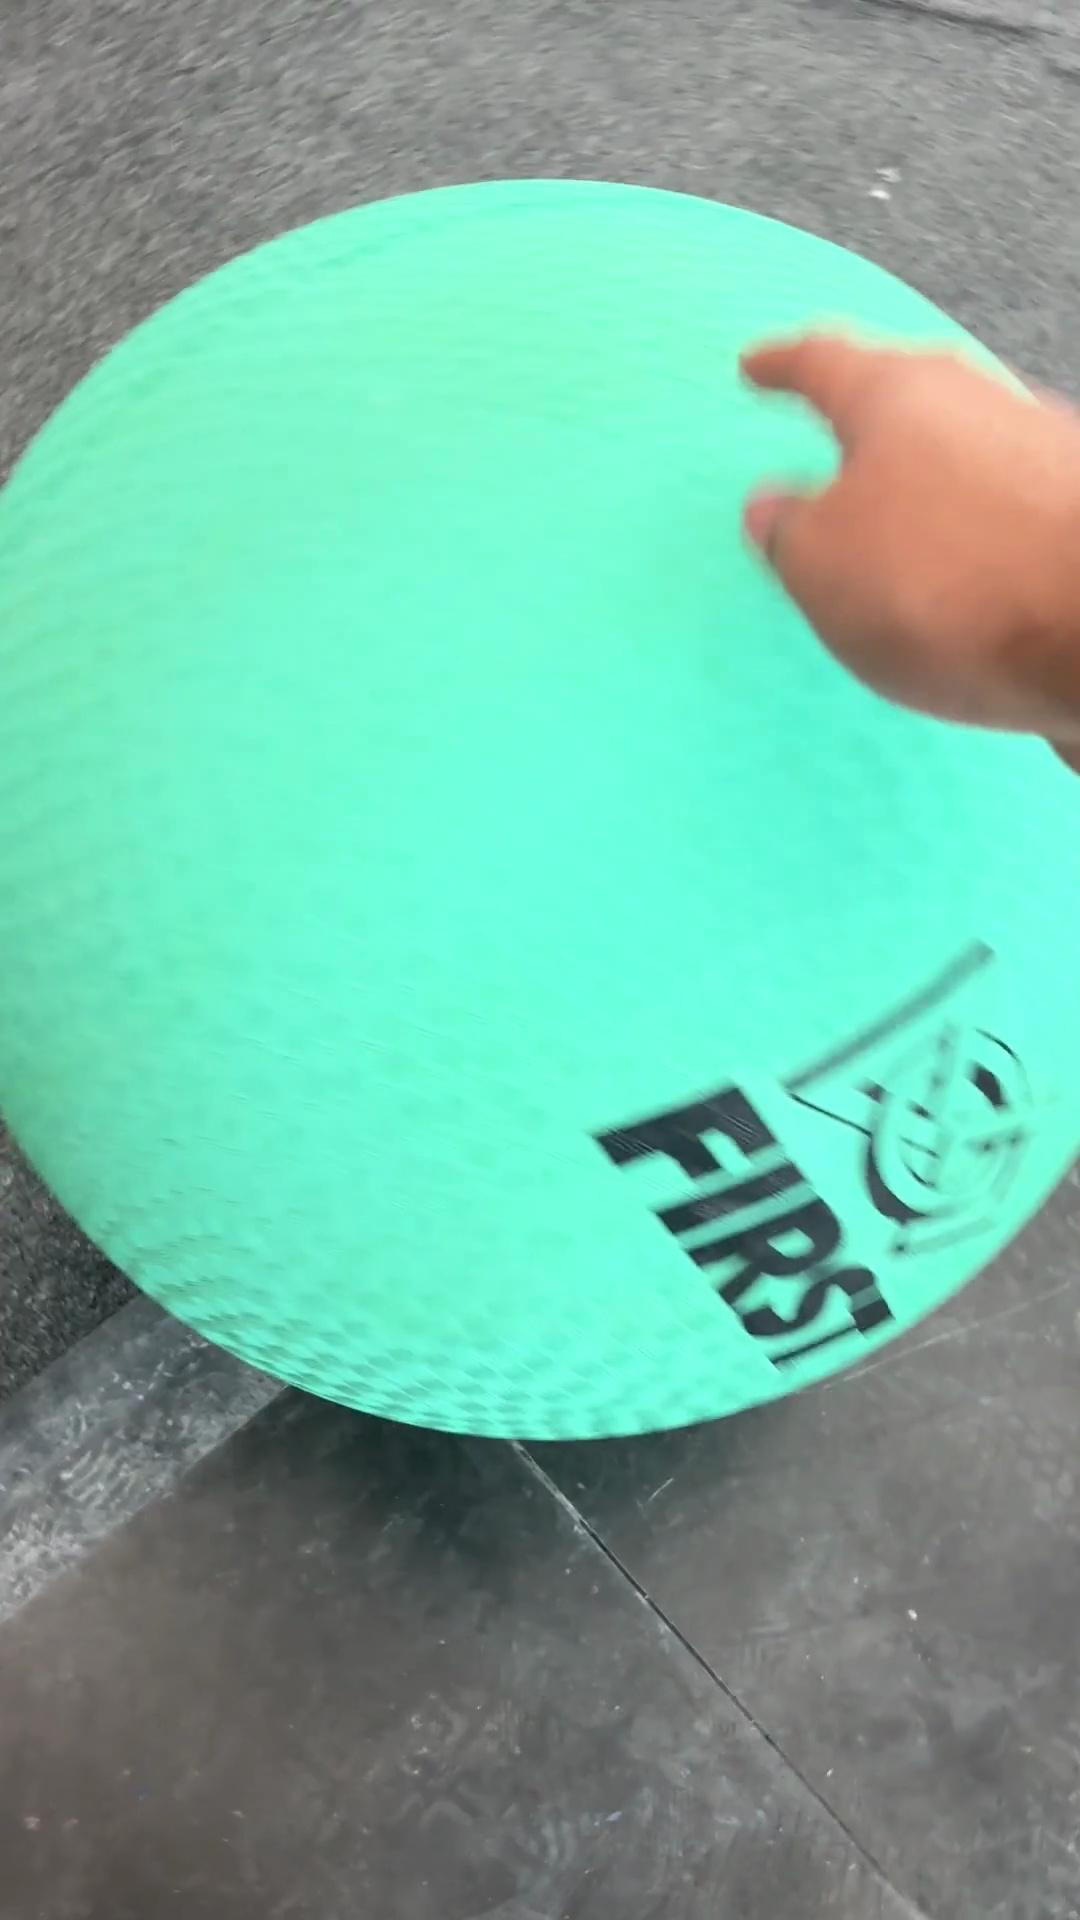ALGAE: (3, 174, 1076, 1445)
